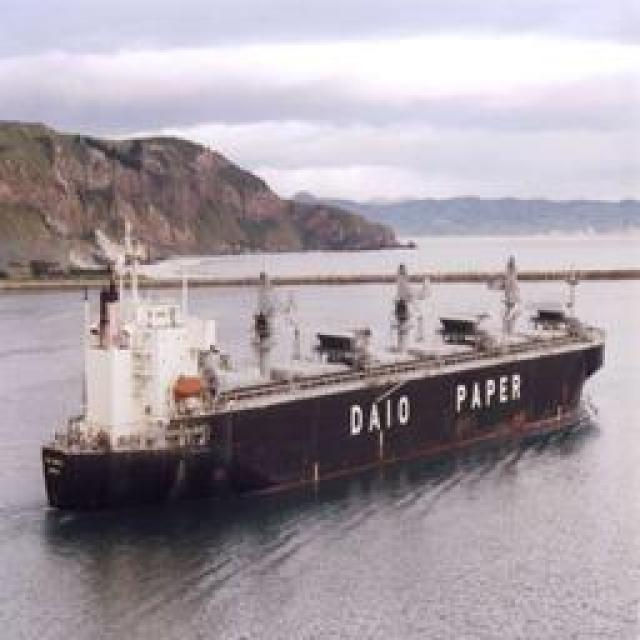ship2: (40, 254, 639, 515)
